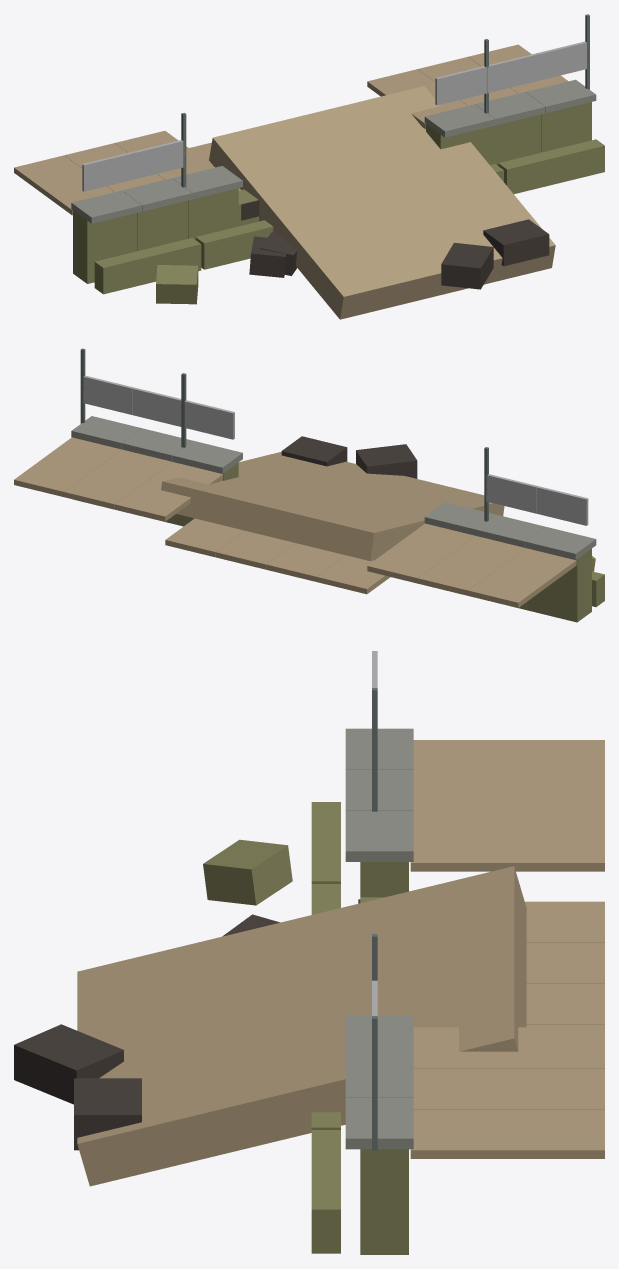
File: SM_MuroRampa_v1_BajoValla_e3_Brecha_LOD1.fbx
3 renders of one model, top to bottom at view 1: azimuth 30°, elevation 25°; view 2: azimuth 150°, elevation 25°; view 3: azimuth 270°, elevation 25°, orthographic. The views are drawn at different scales.
Parts seen in each view (by area): view 1: SM_muro_rampa_v7_LOD1; view 2: SM_muro_rampa_v7_LOD1; view 3: SM_muro_rampa_v7_LOD1.
Boxes of the visible parts, x1,y1,x2,y2 form: SM_muro_rampa_v7_LOD1: (14, 14, 604, 319); SM_muro_rampa_v7_LOD1: (14, 348, 604, 622); SM_muro_rampa_v7_LOD1: (14, 651, 604, 1254).
Bounding box in the file's own units: 10.03 × 3.04 × 6.09.
